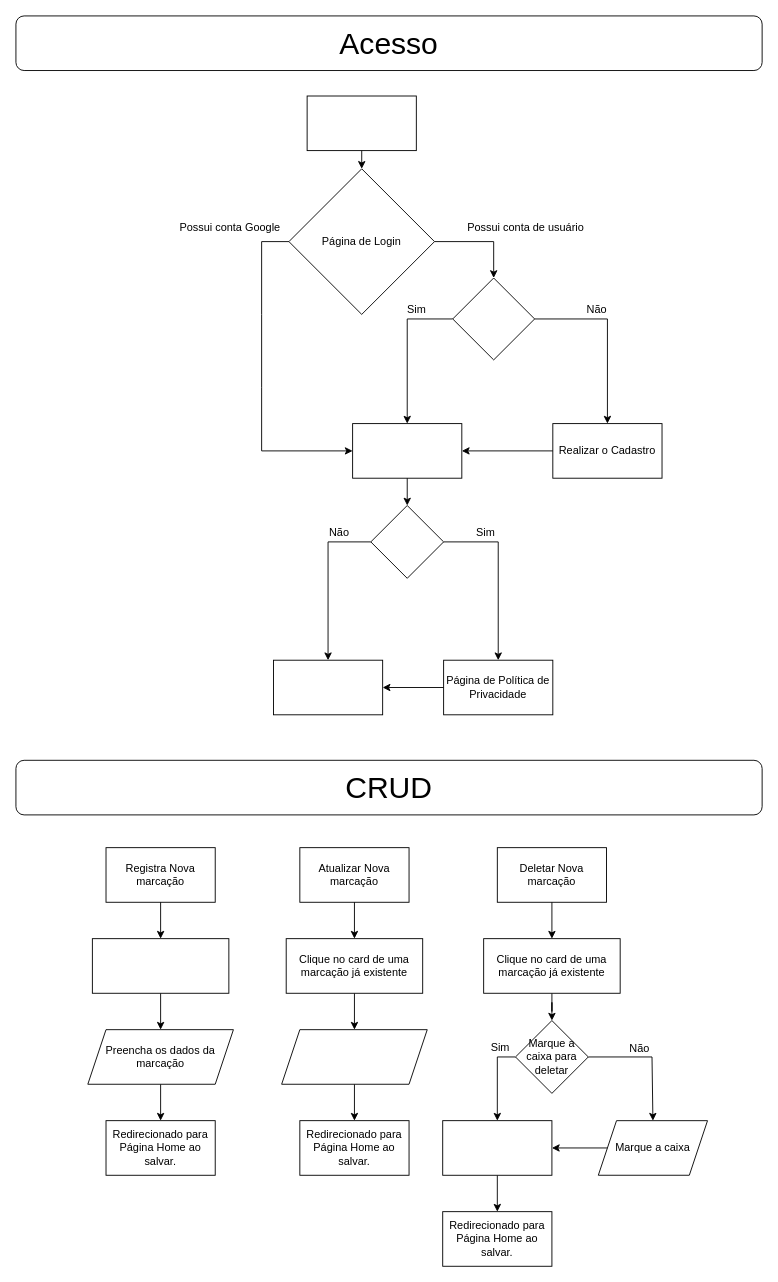
This 778x1282 diagram has some shape labels left out. Each missing label, with the box of its shape:
Acesso ao endereço do app: (306, 95, 416, 151)
Clique na ícone ou no card de registo (add): (91, 938, 229, 993)
Clique no botão para Apagar a marcação.: (442, 1120, 552, 1175)
Primeiro Acesso: (370, 505, 444, 578)
Página Home: (273, 659, 383, 715)
Realizar Login: (352, 423, 462, 478)
Realize as alterações necessárias os dados da marcação: (281, 1029, 427, 1084)
É cadastrado?: (452, 277, 535, 360)
